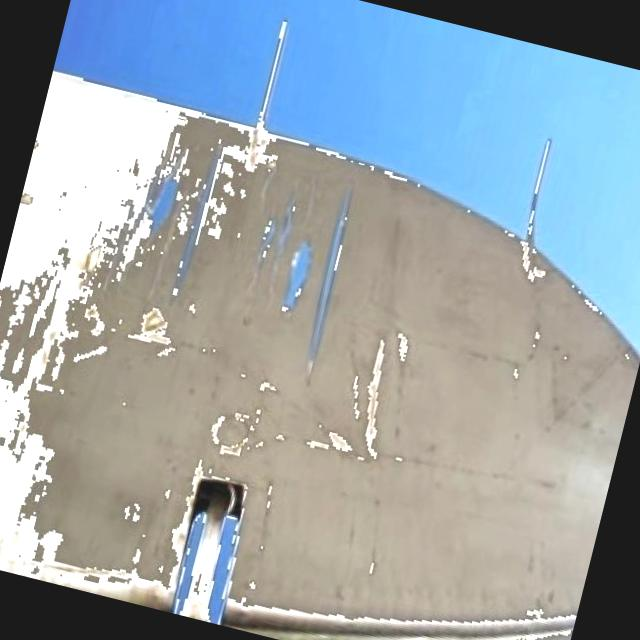crack: (96, 126, 367, 390)
